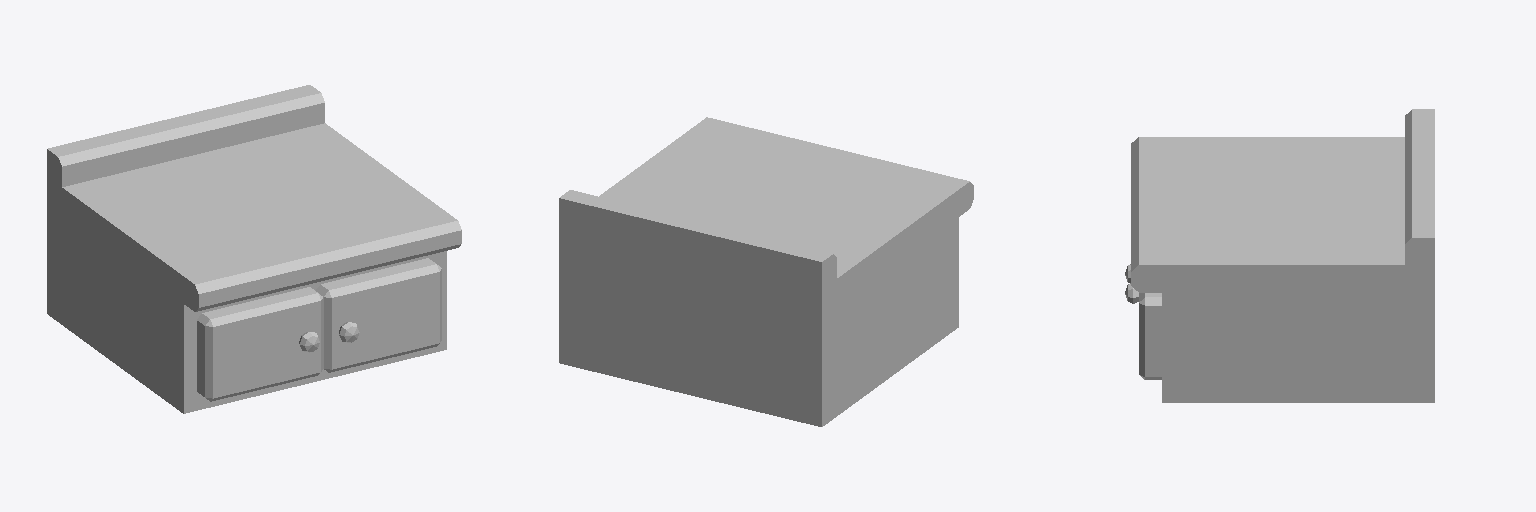
The model's file is kitchencounter_straight_B_backsplash.obj.
The picture shows the model from 3 angles: view 1: azimuth 30°, elevation 25°; view 2: azimuth 150°, elevation 25°; view 3: azimuth 270°, elevation 25°; orthographic projection.
Visible parts, largest first — view 1: kitchencounter_straight_B_backsplash_Cube.895; view 2: kitchencounter_straight_B_backsplash_Cube.895; view 3: kitchencounter_straight_B_backsplash_Cube.895.
Boxes of the visible parts, x1=… form: kitchencounter_straight_B_backsplash_Cube.895: x1=47, y1=85, x2=461, y2=413; kitchencounter_straight_B_backsplash_Cube.895: x1=559, y1=117, x2=973, y2=426; kitchencounter_straight_B_backsplash_Cube.895: x1=1125, y1=109, x2=1434, y2=402.
Size of the model in its own units: 2 by 1.2 by 2.04.